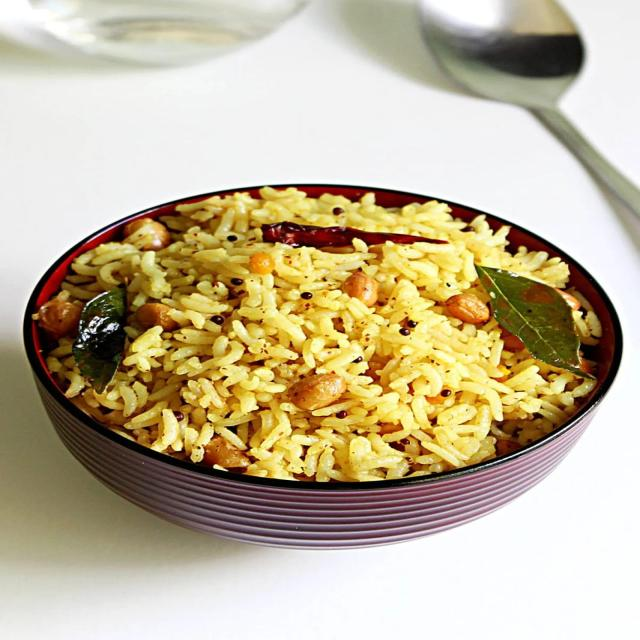puliyogare: (21, 174, 634, 490)
